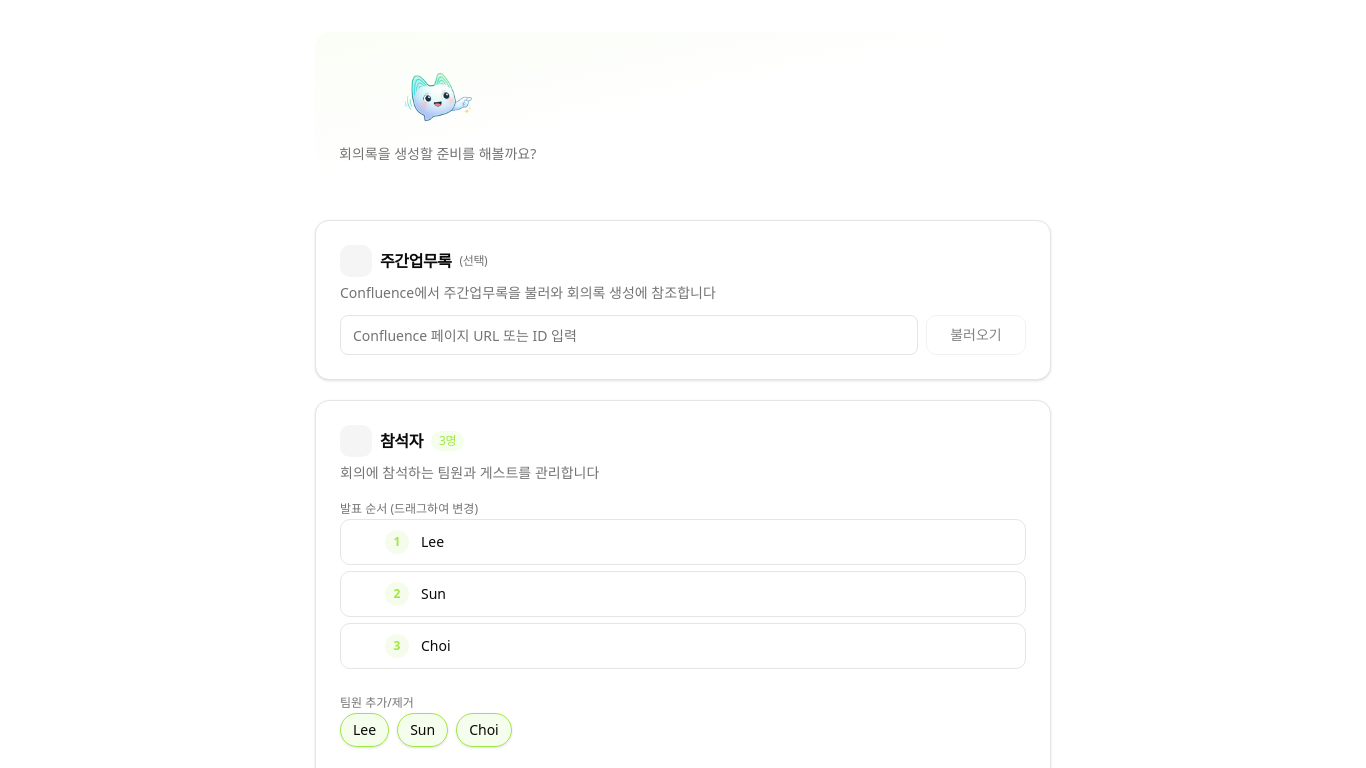
Test: MeetingSetupPage › Confluence Integration › shows success message on successful load
Type "12345678" into the field with placeholder "Confluence 페이지 URL 또는 ID 입력" at (629, 335), box 340,315 -> 918,355
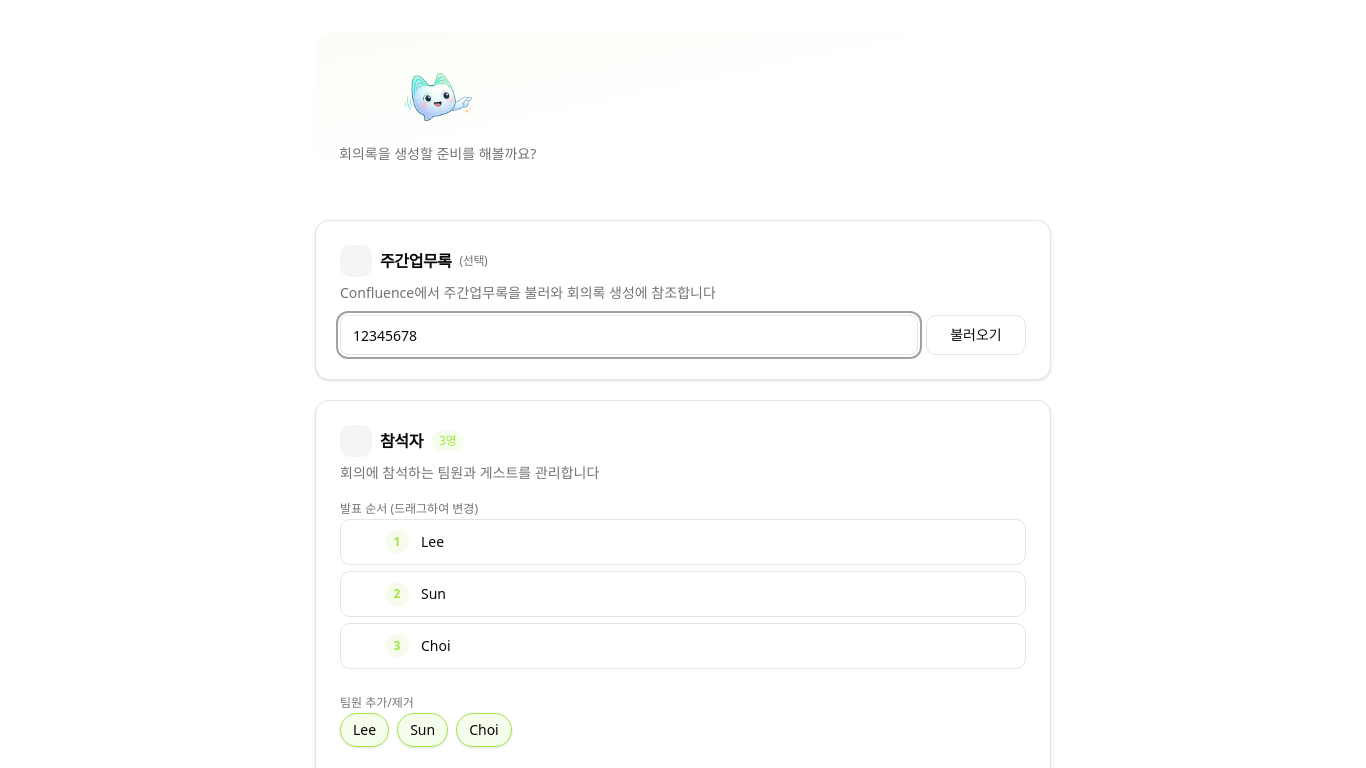
Click the button "불러오기" at (976, 335), box 926,315 -> 1026,355
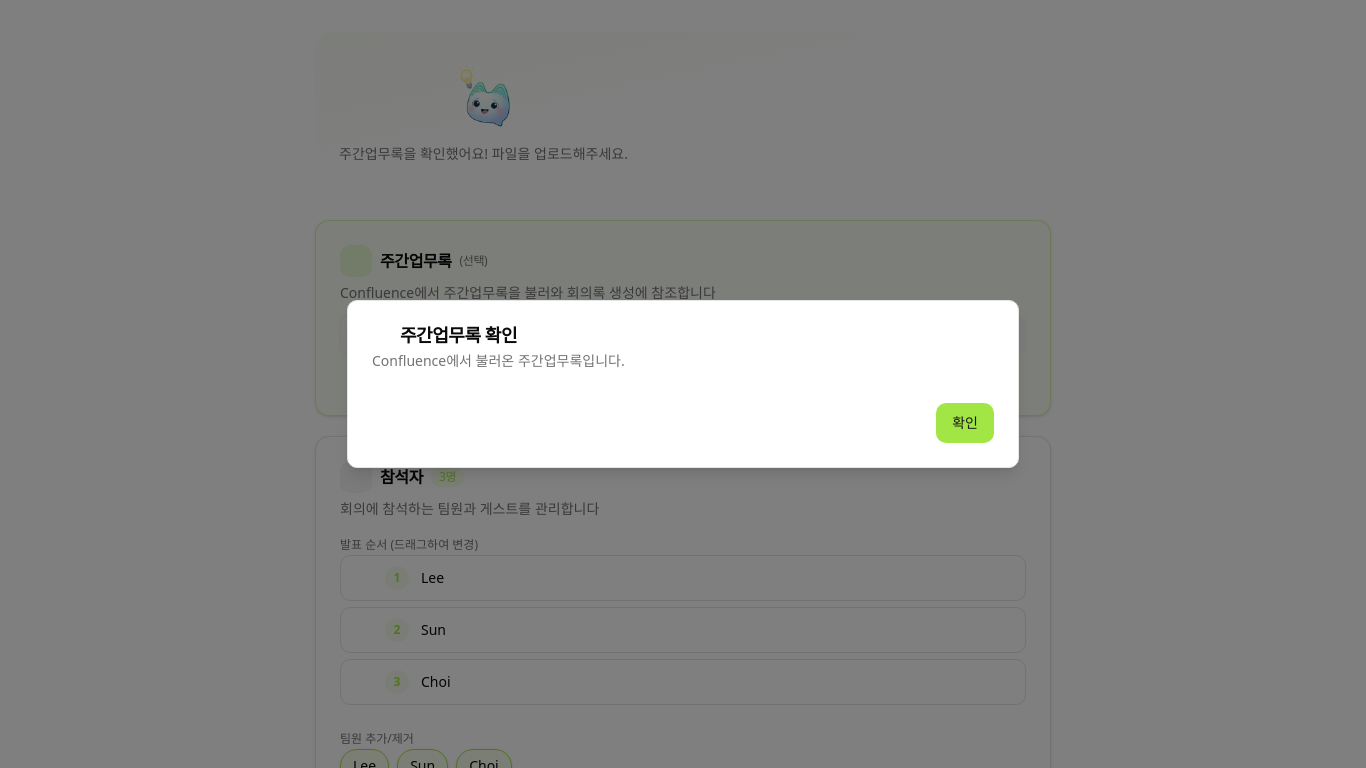
Now the text "주간업무록이 연결되었습니다" is shown, box 340,371 -> 535,390
